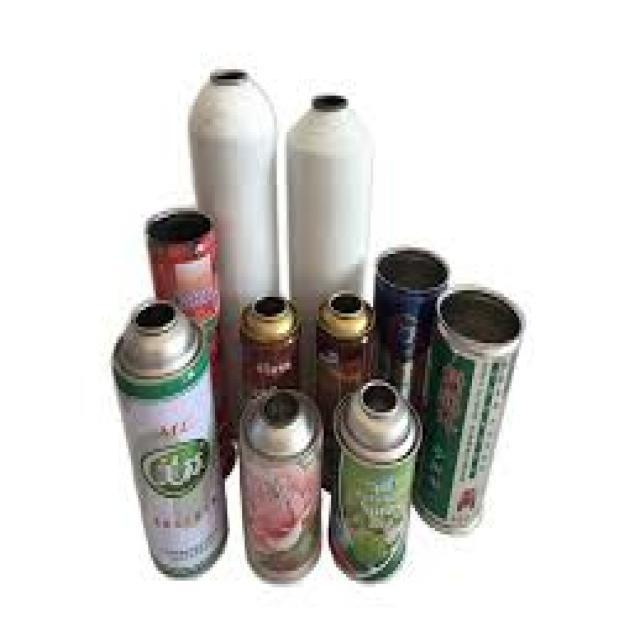recyclable: (188, 68, 282, 450), (111, 300, 230, 584), (411, 282, 528, 538), (289, 91, 375, 405), (144, 202, 238, 484), (326, 375, 421, 587), (239, 389, 321, 587), (374, 242, 450, 410), (316, 285, 374, 493), (240, 294, 306, 406)
